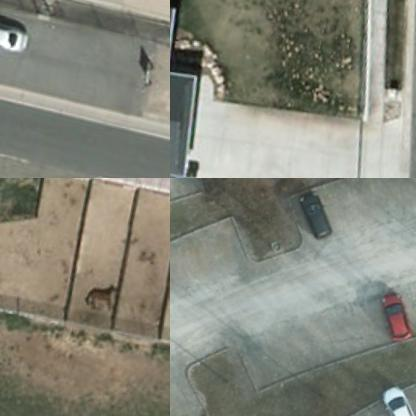car: (295, 181, 343, 235), (380, 279, 415, 336), (384, 373, 415, 415), (0, 10, 33, 48)
